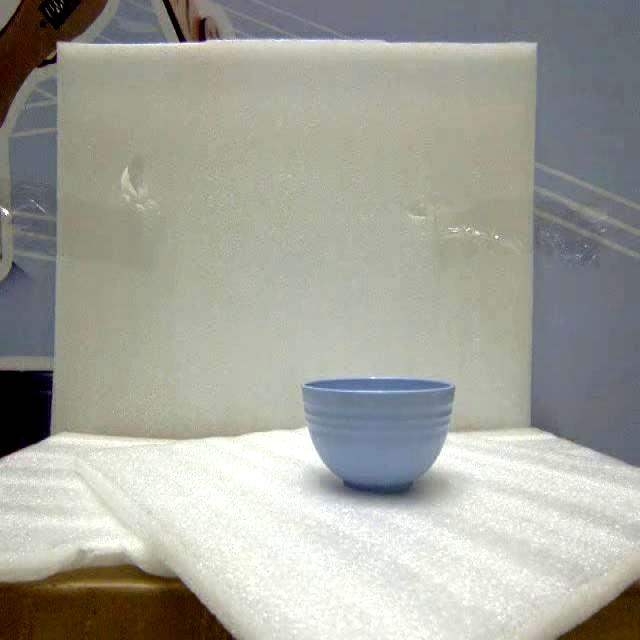Bowl: (304, 378, 454, 492)
